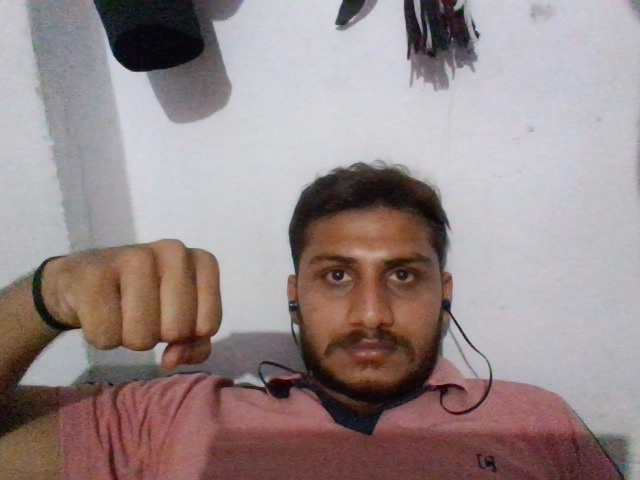Yes: (20, 220, 245, 368)
